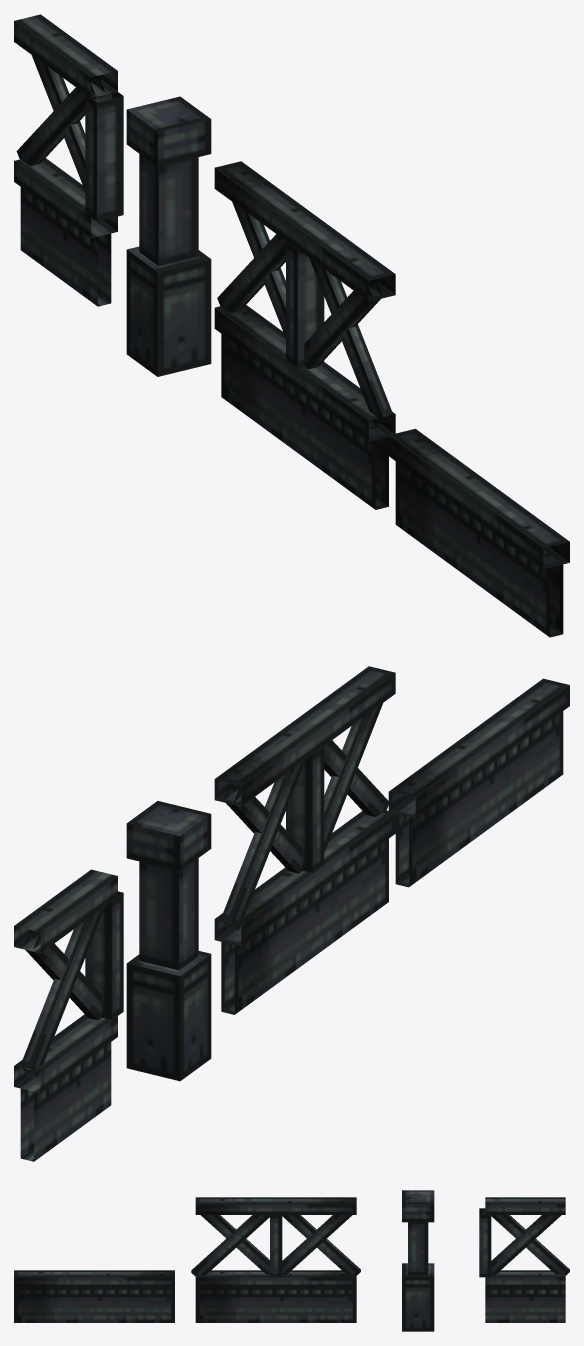
The model's file is EnvMdrMD_Factory_A_Fence_A.FBX.
3 renders of one model, top to bottom at view 1: azimuth 30°, elevation 25°; view 2: azimuth 150°, elevation 25°; view 3: azimuth 270°, elevation 25°, orthographic. The views are drawn at different scales.
Visible parts, largest first — view 1: EnvMdrMD_Factory_A_Fence_A, EnvMdrMD_Factory_A_Fence_A_Junction, EnvMdrMD_Factory_A_Fence_Post_A, EnvMdrMD_Factory_A_Fence_B; view 2: EnvMdrMD_Factory_A_Fence_A, EnvMdrMD_Factory_A_Fence_A_Junction, EnvMdrMD_Factory_A_Fence_Post_A, EnvMdrMD_Factory_A_Fence_B; view 3: EnvMdrMD_Factory_A_Fence_A, EnvMdrMD_Factory_A_Fence_A_Junction, EnvMdrMD_Factory_A_Fence_B, EnvMdrMD_Factory_A_Fence_Post_A.
Boxes of the visible parts, <box> form: EnvMdrMD_Factory_A_Fence_A: <box>214,161,395,509</box>; EnvMdrMD_Factory_A_Fence_A_Junction: <box>14,14,123,306</box>; EnvMdrMD_Factory_A_Fence_Post_A: <box>126,96,211,376</box>; EnvMdrMD_Factory_A_Fence_B: <box>388,428,569,637</box>; EnvMdrMD_Factory_A_Fence_A: <box>214,666,395,1014</box>; EnvMdrMD_Factory_A_Fence_A_Junction: <box>14,869,123,1161</box>; EnvMdrMD_Factory_A_Fence_Post_A: <box>126,801,211,1081</box>; EnvMdrMD_Factory_A_Fence_B: <box>388,678,569,887</box>; EnvMdrMD_Factory_A_Fence_A: <box>191,1197,360,1322</box>; EnvMdrMD_Factory_A_Fence_A_Junction: <box>479,1197,569,1322</box>; EnvMdrMD_Factory_A_Fence_B: <box>14,1270,174,1322</box>; EnvMdrMD_Factory_A_Fence_Post_A: <box>402,1190,434,1331</box>.
Size of the model in its own units: 40 by 175 by 691.
Materials: 1 (1 with a texture image).
